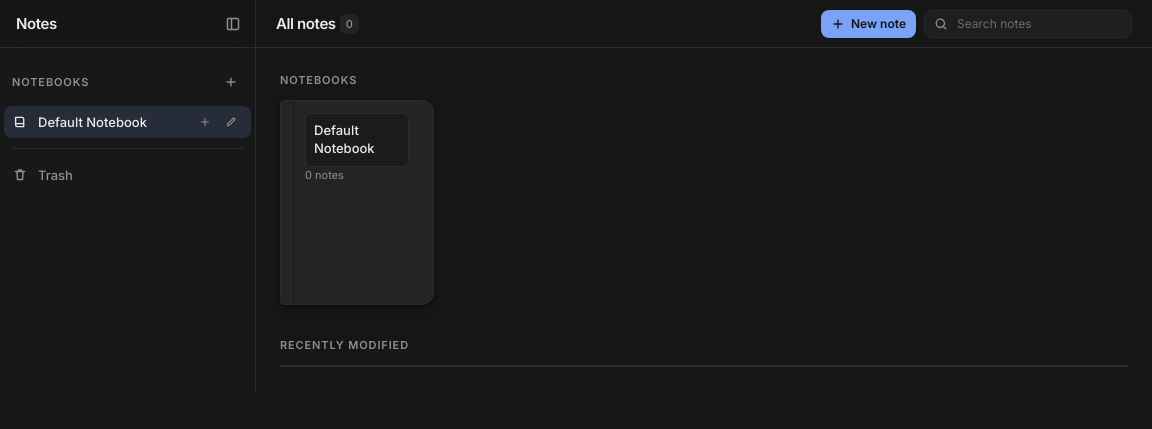
Scenario: NotesView, the editor › does not store a new note nothing was typed into
Later steps or results of the test are not shown.
Step 1. Click the button "New note" → (868, 24), box [821,10,916,38]
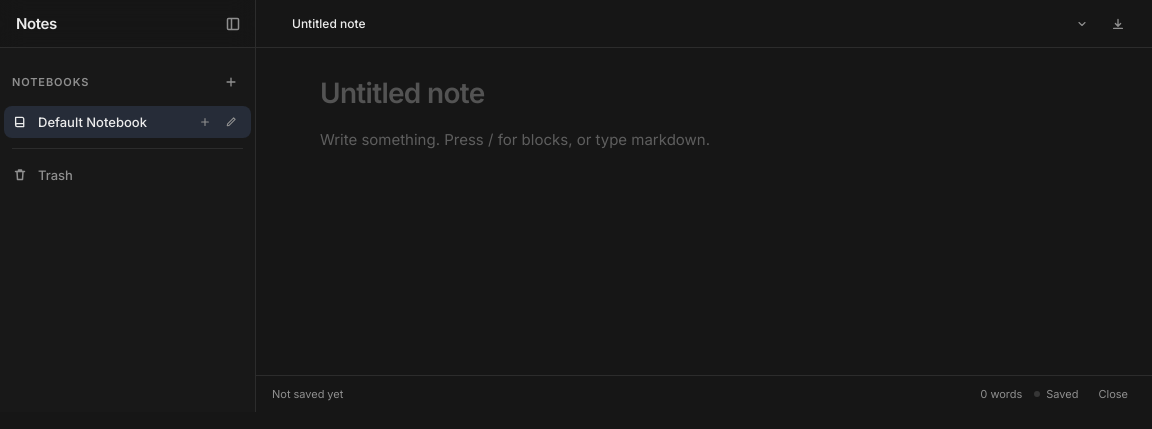
expect the field named "Note title" is empty: met, box [320,76,1088,111]
